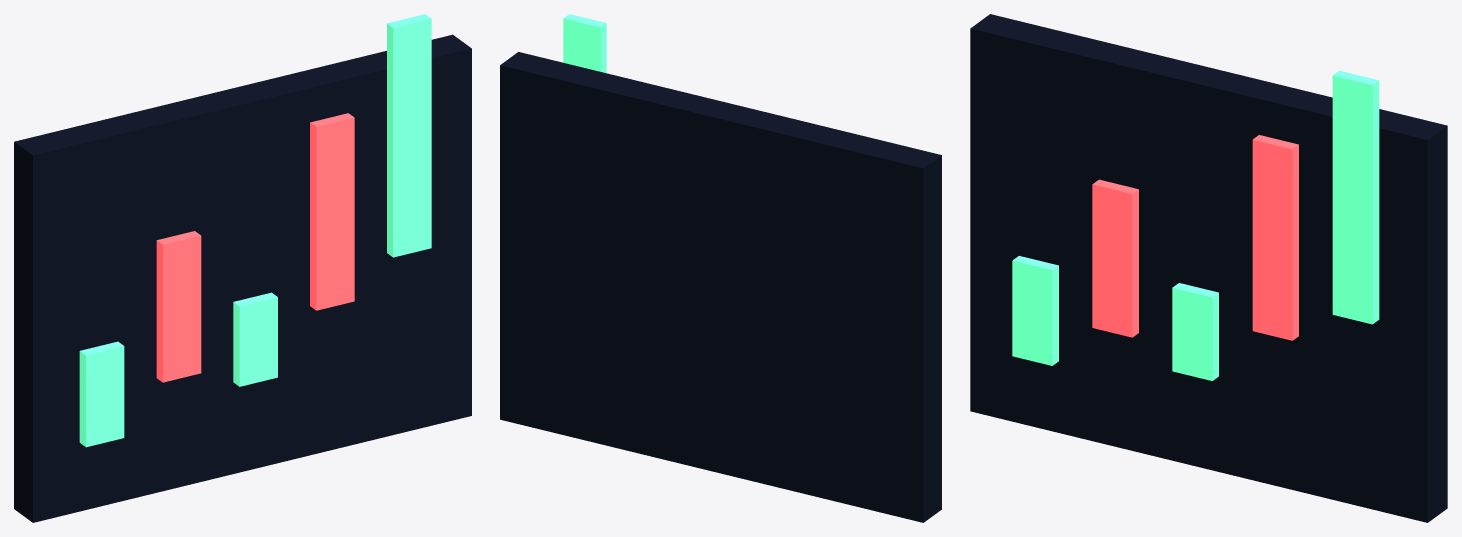
The model's file is icon_chart.glb.
3 renders of one model, left to right at view 1: azimuth 30°, elevation 25°; view 2: azimuth 150°, elevation 25°; view 3: azimuth 330°, elevation 25°, orthographic. The views are drawn at different scales.
Parts seen in each view (by area): view 1: board, candle.004, candle.003, candle.001, candle, candle.002; view 2: board, candle.004; view 3: board, candle.004, candle.003, candle.001, candle, candle.002.
Boxes of the visible parts, box(x1,y1,x2,y2) form: board: box(14, 34, 471, 522); candle.004: box(387, 14, 431, 257); candle.003: box(310, 113, 354, 310); candle.001: box(156, 231, 201, 382); candle: box(79, 341, 124, 447); candle.002: box(233, 292, 277, 386); board: box(500, 52, 941, 522); candle.004: box(563, 14, 606, 73); board: box(970, 14, 1447, 522); candle.004: box(1332, 70, 1379, 324); candle.003: box(1252, 135, 1298, 340); candle.001: box(1092, 179, 1138, 337); candle: box(1012, 256, 1058, 365); candle.002: box(1172, 283, 1218, 380).
Size of the model in its own units: 0.4 by 0.36 by 0.04.
